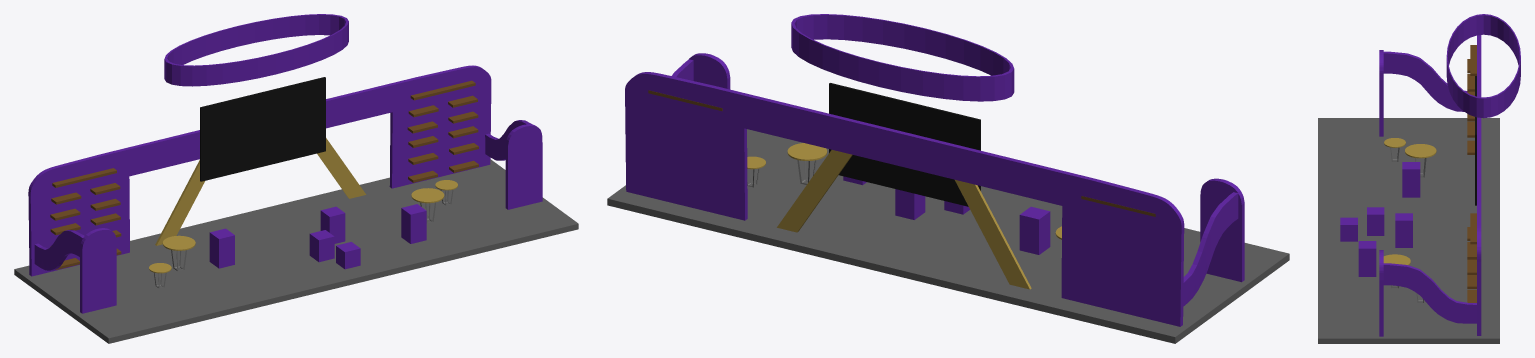
Rendered from stand remodel grand.fbx.
The picture shows the model from 3 angles, left to right: view 1: azimuth 30°, elevation 25°; view 2: azimuth 150°, elevation 25°; view 3: azimuth 270°, elevation 25°; orthographic projection. The views are drawn at different scales.
Parts seen in each view (by area): view 1: base ., pared der, fondo pantalla med.001, pared izq, baner superior., pared baner der, pared baner izq, curva izq, pilar inclinado izq, pilar inclinado der, cubo 5, cubo 1 (+5 smaller); view 2: base ., pared izq, pared der, baner superior., fondo pantalla med.001, pared baner izq, pilar inclinado izq, curva izq, pilar inclinado der, cubo 1, pared baner der, cubo 4 (+1 smaller); view 3: base ., baner superior., curva der, curva izq, pared der, cubo 5, cubo 1, cubo 4, cubo 2, cubo 3, pared baner der, pared baner izq (+7 smaller).
Part boxes in pixels (<box>): base .: <box>14,159,578,343</box>; pared der: <box>326,65,491,188</box>; fondo pantalla med.001: <box>200,77,325,181</box>; pared izq: <box>28,130,199,276</box>; baner superior.: <box>164,14,348,86</box>; pared baner der: <box>505,124,542,209</box>; pared baner izq: <box>80,228,116,313</box>; curva izq: <box>34,230,84,270</box>; pilar inclinado izq: <box>155,160,204,245</box>; pilar inclinado der: <box>317,138,366,198</box>; cubo 5: <box>401,204,426,243</box>; cubo 1: <box>209,228,234,268</box>; base .: <box>607,129,1289,343</box>; pared izq: <box>889,129,1184,326</box>; pared der: <box>625,72,919,220</box>; baner superior.: <box>791,14,1014,101</box>; fondo pantalla med.001: <box>829,83,980,206</box>; pared baner izq: <box>1200,178,1244,282</box>; pilar inclinado izq: <box>955,180,1031,289</box>; curva izq: <box>1183,192,1238,306</box>; pilar inclinado der: <box>777,150,852,232</box>; cubo 1: <box>1019,206,1050,254</box>; pared baner der: <box>689,53,730,89</box>; cubo 4: <box>895,189,925,219</box>; base .: <box>1318,118,1499,343</box>; baner superior.: <box>1446,14,1520,118</box>; curva der: <box>1383,263,1476,323</box>; curva izq: <box>1383,51,1467,111</box>; pared der: <box>1477,123,1481,335</box>; cubo 5: <box>1358,241,1376,276</box>; cubo 1: <box>1402,162,1420,197</box>; cubo 4: <box>1395,213,1412,247</box>; cubo 2: <box>1367,207,1384,235</box>; cubo 3: <box>1340,217,1357,241</box>; pared baner der: <box>1379,250,1383,336</box>; pared baner izq: <box>1379,50,1383,136</box>.
Size of the model in its own units: 24.56 by 9.17 by 9.54.
